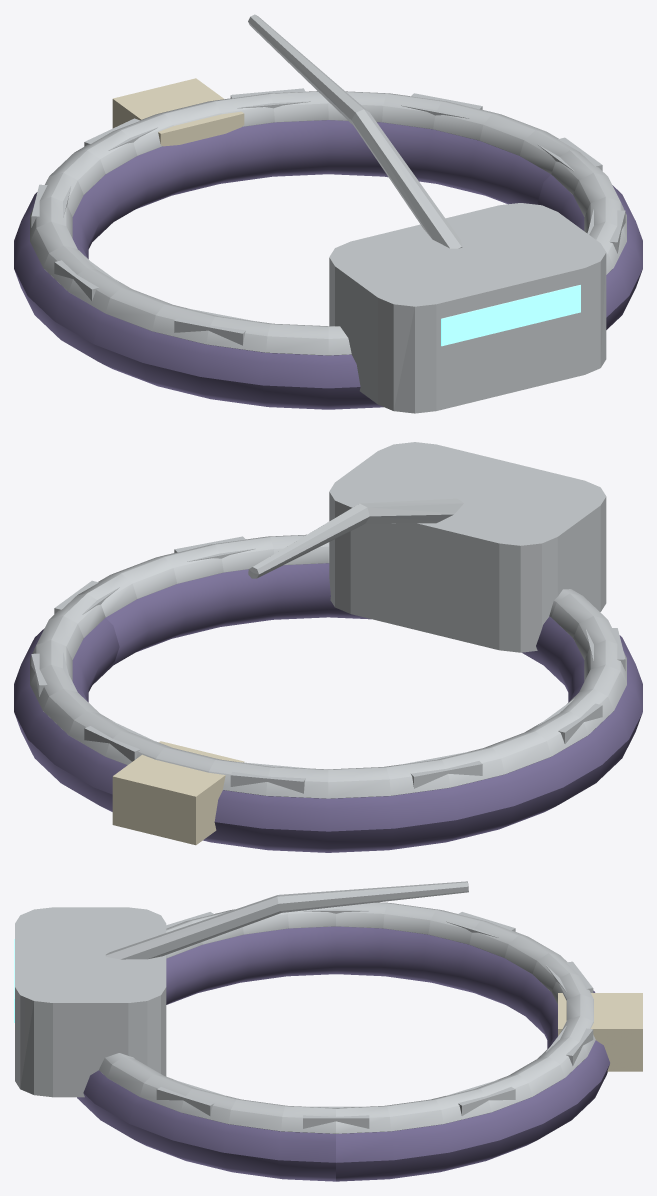
File: collar.fbx
3 views of the same model, one above another, from view 1: azimuth 30°, elevation 25°; view 2: azimuth 150°, elevation 25°; view 3: azimuth 270°, elevation 25° (orthographic). The views are drawn at different scales.
Parts seen in each view (by area): view 1: xeno-tracking-collar_1, xeno-tracking-collar_0, xeno-tracking-collar_3, xeno-tracking-collar_2; view 2: xeno-tracking-collar_1, xeno-tracking-collar_0, xeno-tracking-collar_3; view 3: xeno-tracking-collar_1, xeno-tracking-collar_0, xeno-tracking-collar_3.
Part boxes in pixels (bbox=[...]): xeno-tracking-collar_1: bbox=[30, 14, 626, 413]; xeno-tracking-collar_0: bbox=[14, 120, 642, 409]; xeno-tracking-collar_3: bbox=[112, 78, 244, 146]; xeno-tracking-collar_2: bbox=[441, 285, 580, 346]; xeno-tracking-collar_1: bbox=[30, 442, 626, 798]; xeno-tracking-collar_0: bbox=[14, 563, 642, 852]; xeno-tracking-collar_3: bbox=[112, 741, 244, 845]; xeno-tracking-collar_1: bbox=[15, 881, 595, 1133]; xeno-tracking-collar_0: bbox=[77, 926, 609, 1181]; xeno-tracking-collar_3: bbox=[558, 993, 642, 1071].
Bounding box in the file's own units: 59 × 22.41 × 66.62.
